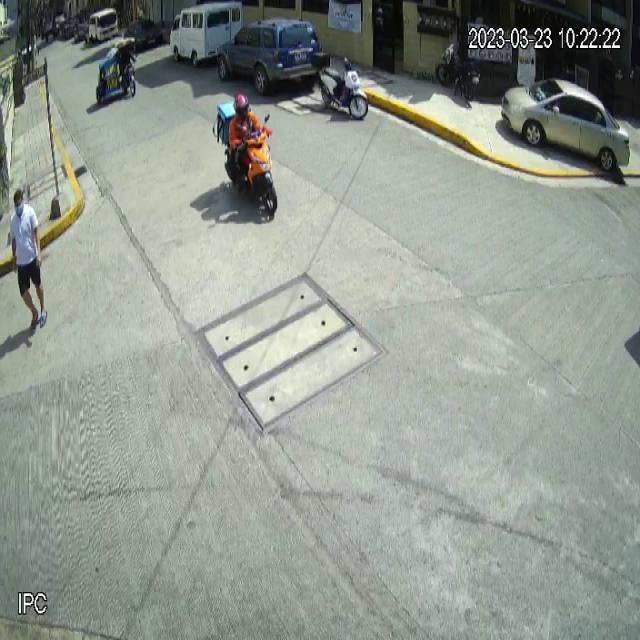Car: (500, 77, 630, 173), (216, 17, 322, 94)
Motorcycle: (224, 112, 279, 217), (317, 55, 369, 122)
Tricycle: (96, 36, 136, 104)
Van: (170, 1, 244, 68)
